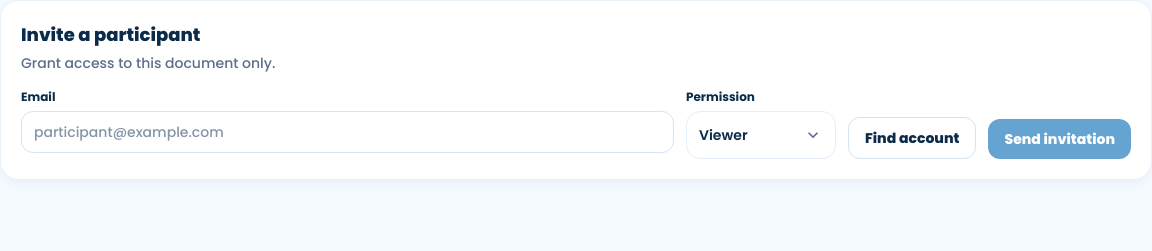
maps supported backend field-error representations to existing controls
Type "person@example.com" into the field labelled "Email" at [348, 132], box [21,111,674,153]
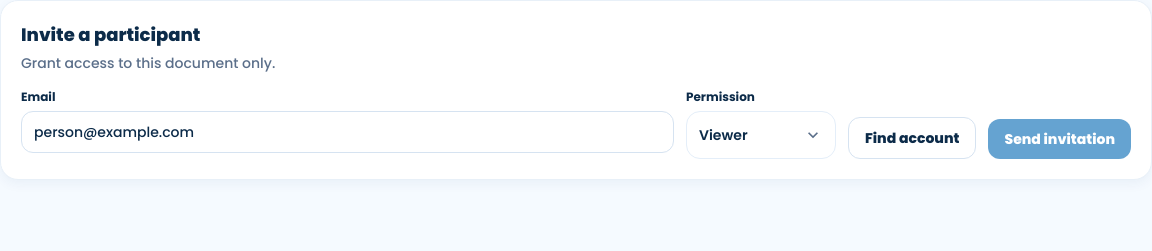
Click the button "Find account" at [912, 138], box [848,117,976,159]
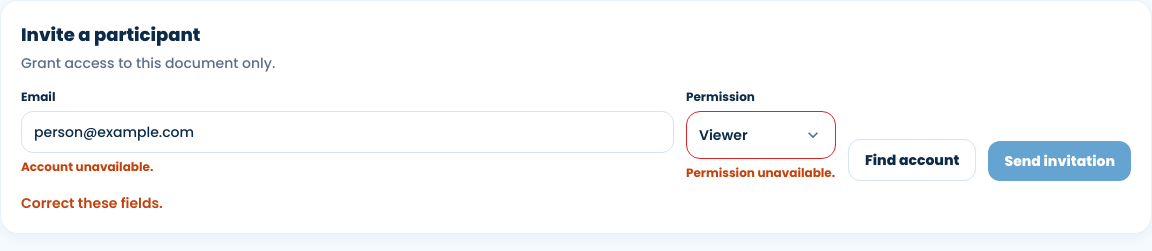
Now the message "Correct these fields." is shown, box [21,193,163,213]
Now the text "Account unavailable." is shown, box [21,158,153,175]
Now the text "Permission unavailable." is shown, box [686,165,836,181]
